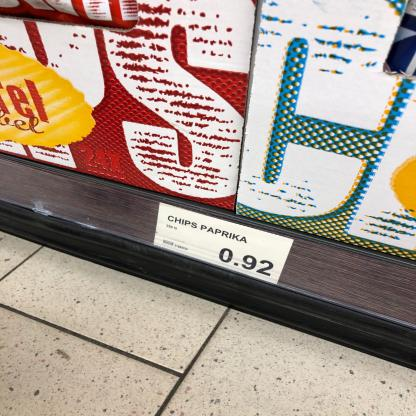prtg: (154, 203, 296, 285)
